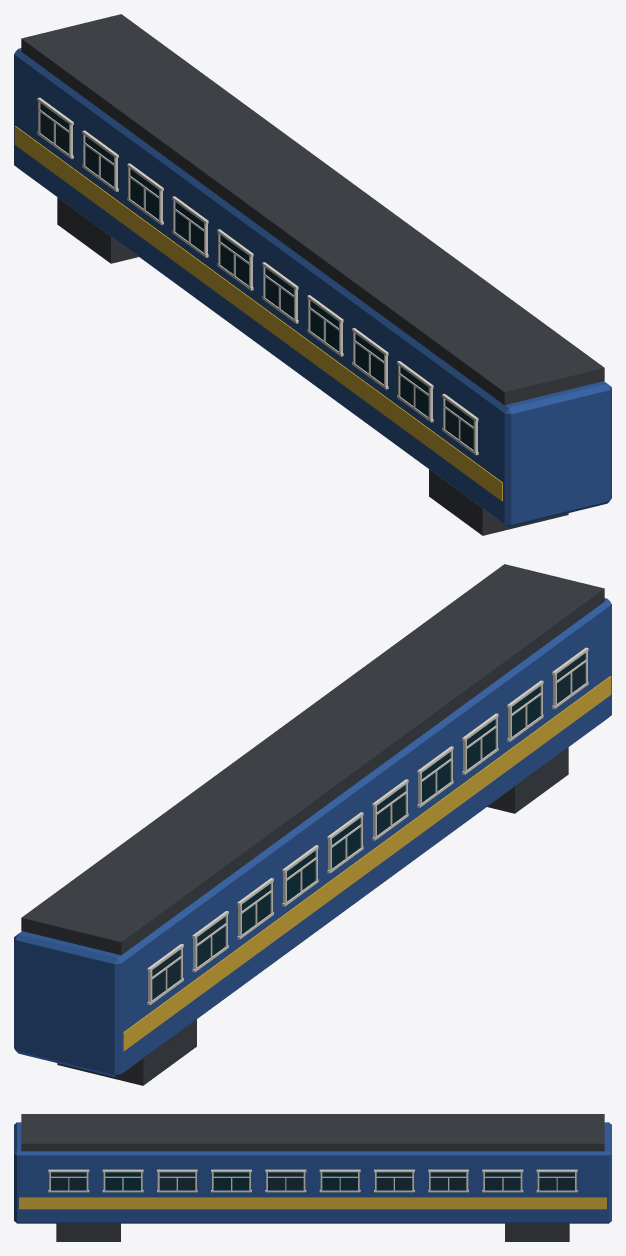
File: train_car.glb
3 renders of one model, top to bottom at view 1: azimuth 30°, elevation 25°; view 2: azimuth 150°, elevation 25°; view 3: azimuth 270°, elevation 25°, orthographic. The views are drawn at different scales.
Parts seen in each view (by area): view 1: train_car; view 2: train_car; view 3: train_car.
Part boxes in pixels (bbox=[...]): train_car: bbox=[14, 14, 611, 535]; train_car: bbox=[14, 564, 611, 1085]; train_car: bbox=[14, 1114, 611, 1241].
Size of the model in its own units: 3.15 by 4.45 by 24.
